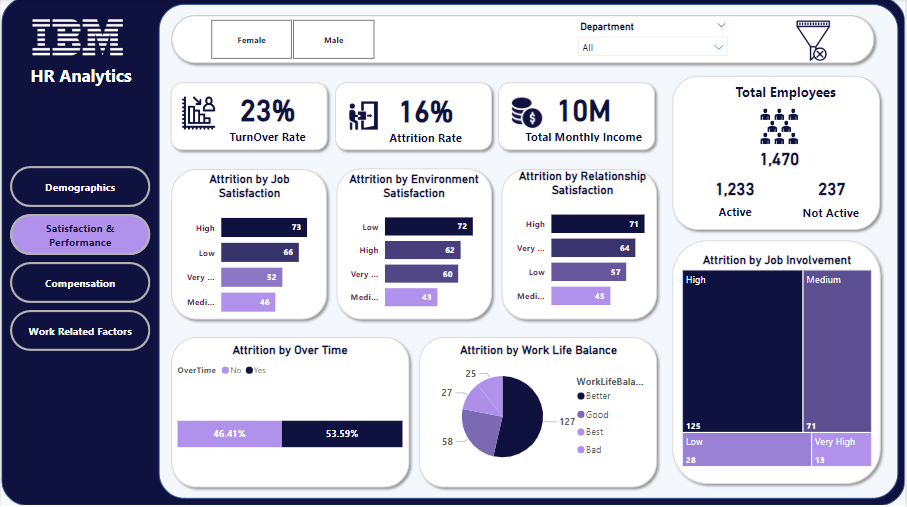

What the dashboard file says about the page in this screenshot:
{"tool":"powerbi","page":{"name":"Satisfaction & Performance","canvas":[1280,720],"ordinal":1},"visuals":[{"type":"textbox","box":[36.9,86.5,165.8,42.5],"z":0},{"type":"card","fields":{"Values":["Dax Measures.# Attrited employees"]},"box":[1134.1,247.4,87.2,42.9],"z":0,"group":"g1"},{"type":"image","box":[1109.1,25.6,82,66.6],"z":1000},{"type":"card","fields":{"Values":["Dax Measures.# Current employees"]},"box":[1002.5,240.2,75.8,57.2],"z":1000,"group":"g1"},{"type":"group","id":"g1","title":"Group 1","box":[1002.5,113.5,277.5,212.5],"z":2000},{"type":"card","fields":{"Values":["Dax Measures.Total Employees"]},"box":[1059.7,200.2,88.7,52.9],"z":2000,"group":"g1"},{"type":"textbox","box":[1036,113.5,210.2,58.6],"z":3000,"group":"g1"},{"type":"barChart","title":"Attrition by Environment Satisfaction","fields":{"Category":["Fact_Employees.EnvironmentSatisfaction"],"Y":["Dax Measures.# Attrited employees"]},"box":[476.2,245.2,218.3,209.8],"z":3000},{"type":"image","box":[1062.6,148.7,82.9,62.9],"z":4000,"group":"g1"},{"type":"barChart","title":"Attrition by Job Satisfaction","fields":{"Category":["Fact_Employees.JobSatisfaction"],"Y":["Dax Measures.# Attrited employees"]},"box":[245.2,245.2,214,218.3],"z":4000},{"type":"barChart","title":"Attrition by Relationship Satisfaction","fields":{"Category":["Fact_Employees.RelationshipSatisfaction"],"Y":["Dax Measures.# Attrited employees"]},"box":[710.1,240.9,228.2,212.6],"z":5000},{"type":"textbox","box":[1012.5,284.6,75.8,40],"z":5000,"group":"g1"},{"type":"textbox","box":[1131.2,286,148.7,40],"z":6000,"group":"g1"},{"type":"treemap","title":"Attrition by Job Involvement","fields":{"Group":["Fact_Employees.JobInvolvement"],"Values":["Dax Measures.# Attrited employees"]},"box":[960.9,360,277.8,307.6],"z":6000},{"type":"pieChart","title":"Attrition by Work Life Balance","fields":{"Category":["Fact_Employees.WorkLifeBalance"],"Y":["Dax Measures.# Attrited employees"]},"box":[600.9,487.6,321.7,189.9],"z":7000},{"type":"hundredPercentStackedBarChart","title":"Attrition by Over Time","fields":{"Series":["Fact_Employees.OverTime"],"Y":["Dax Measures.# Attrited employees"]},"box":[245.2,487.6,328.8,205.5],"z":8000},{"type":"pageNavigator","box":[12.8,226.8,199.8,284.9],"z":9000},{"type":"card","fields":{"Values":["Dax Measures.TurnOver Rate"]},"box":[296.1,120.1,163,87.2],"z":10000},{"type":"card","fields":{"Values":["Dax Measures.Attrtion Rate"]},"box":[512.1,121.6,180.2,87.2],"z":11000},{"type":"card","fields":{"Values":["Dax Measures.Total Monthly Income"]},"box":[735.3,120.1,180.2,87.2],"z":12000},{"type":"image","box":[454.9,130.1,117.3,70.1],"z":13000},{"type":"image","box":[228.9,133,100.1,57.2],"z":14000},{"type":"image","box":[709.5,134.4,70.1,52.9],"z":15000},{"type":"slicer","fields":{"Values":["DIM_Gender.Gender"]},"box":[272.1,22.7,280.6,69.4],"z":16000},{"type":"slicer","fields":{"Values":["DIM_Department.Department"]},"box":[807.9,25.5,232.4,60.9],"z":17000}]}

Visuals, with their boxes in screenshot pixels (x1, y1, x2, y2), scaled from the page's 1280x720 canvas onto the 907x507 screenshot:
textbox: [26,61,144,91]
card - Dax Measures.# Attrited employees: [804,174,865,204]
image: [786,18,844,65]
card - Dax Measures.# Current employees: [710,169,764,209]
"Group 1" group: [710,80,906,230]
card - Dax Measures.Total Employees: [751,141,814,178]
textbox: [734,80,883,121]
"Attrition by Environment Satisfaction" barChart: [337,173,492,320]
image: [753,105,812,149]
"Attrition by Job Satisfaction" barChart: [174,173,325,326]
"Attrition by Relationship Satisfaction" barChart: [503,170,665,319]
textbox: [717,200,771,229]
textbox: [802,201,906,230]
"Attrition by Job Involvement" treemap: [681,254,878,470]
"Attrition by Work Life Balance" pieChart: [426,343,654,477]
"Attrition by Over Time" hundredPercentStackedBarChart: [174,343,407,488]
pageNavigator: [9,160,151,360]
card - Dax Measures.TurnOver Rate: [210,85,325,146]
card - Dax Measures.Attrtion Rate: [363,86,491,147]
card - Dax Measures.Total Monthly Income: [521,85,649,146]
image: [322,92,405,141]
image: [162,94,233,134]
image: [503,95,552,132]
slicer - DIM_Gender.Gender: [193,16,392,65]
slicer - DIM_Department.Department: [572,18,737,61]
